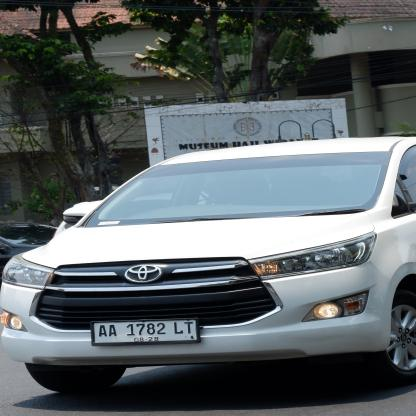Plat-Nomor: (89, 317, 204, 344)
